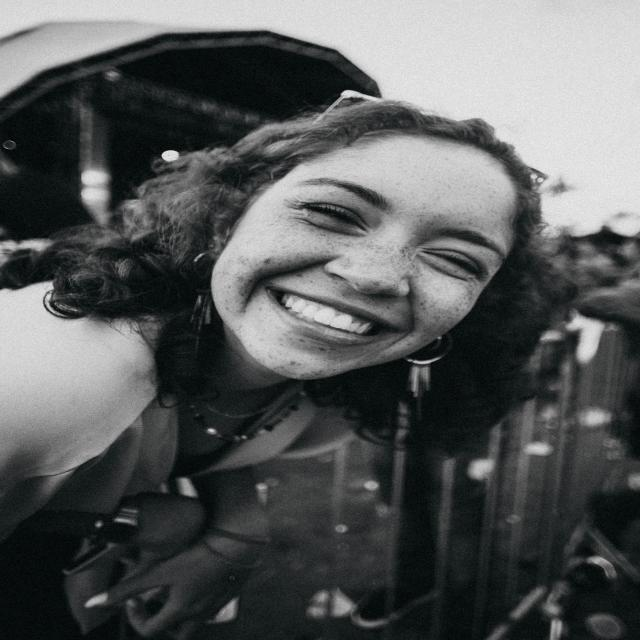adult: (0, 92, 565, 640)
